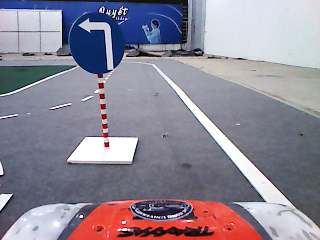turn: (67, 11, 126, 76)
